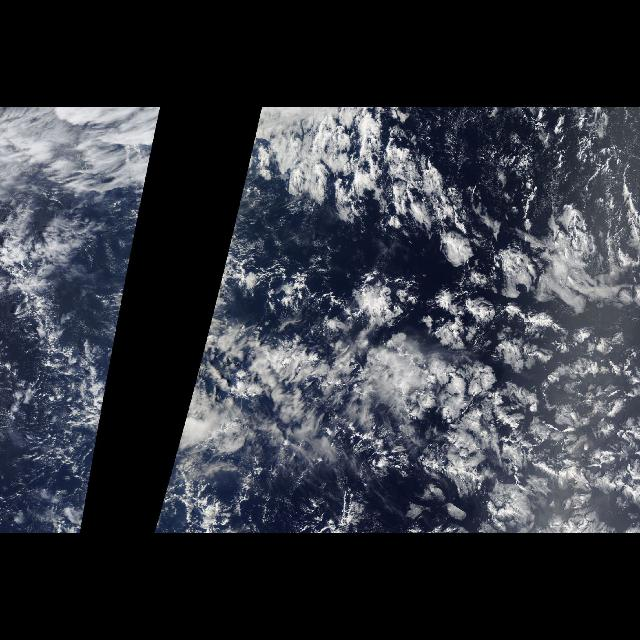Flower: (376, 221, 640, 534)
